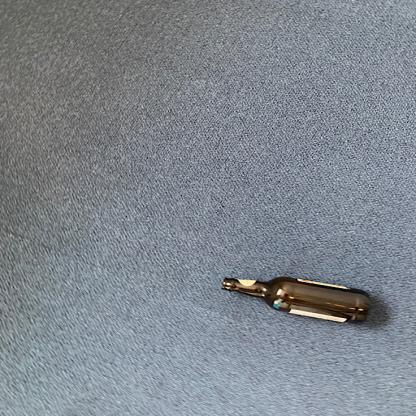trash: (222, 275, 376, 327)
